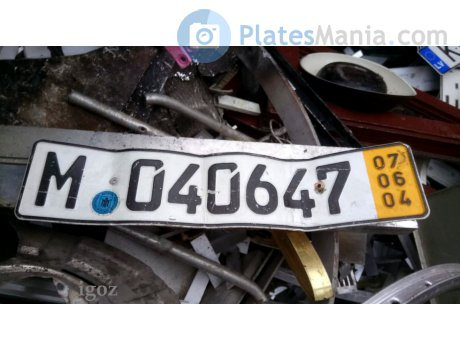License Plates: (55, 151, 350, 216)
